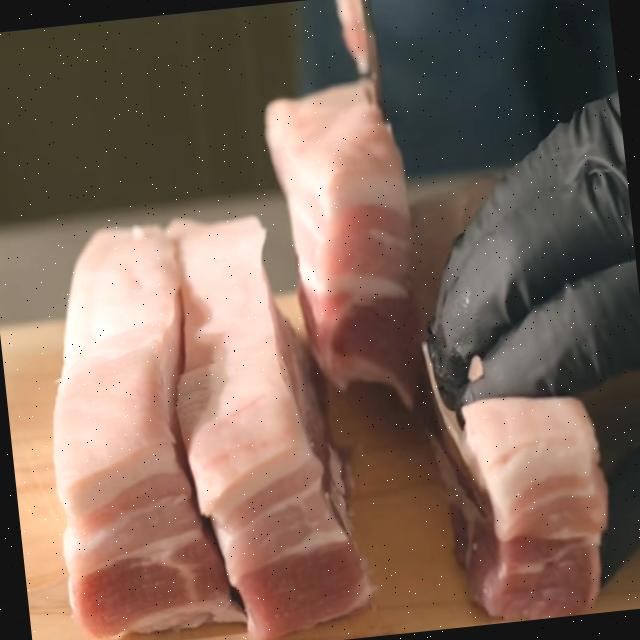meat: (147, 177, 365, 640), (22, 192, 227, 640), (253, 62, 431, 421), (436, 392, 616, 627)
